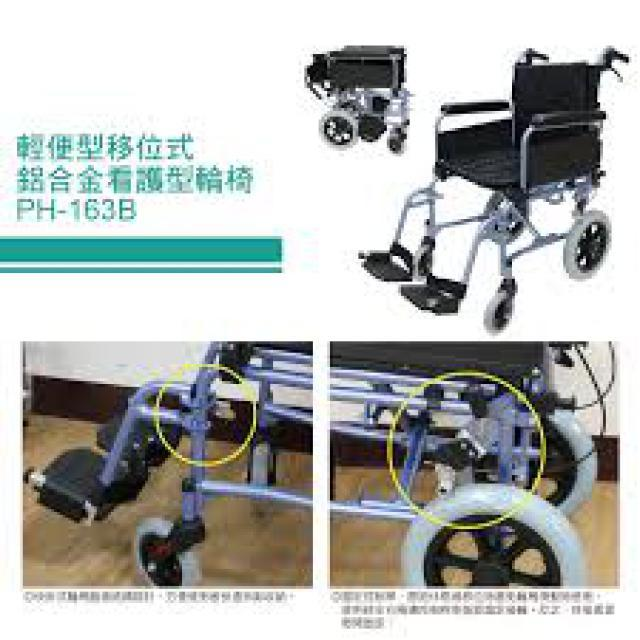wheelchair: (346, 40, 634, 333)
